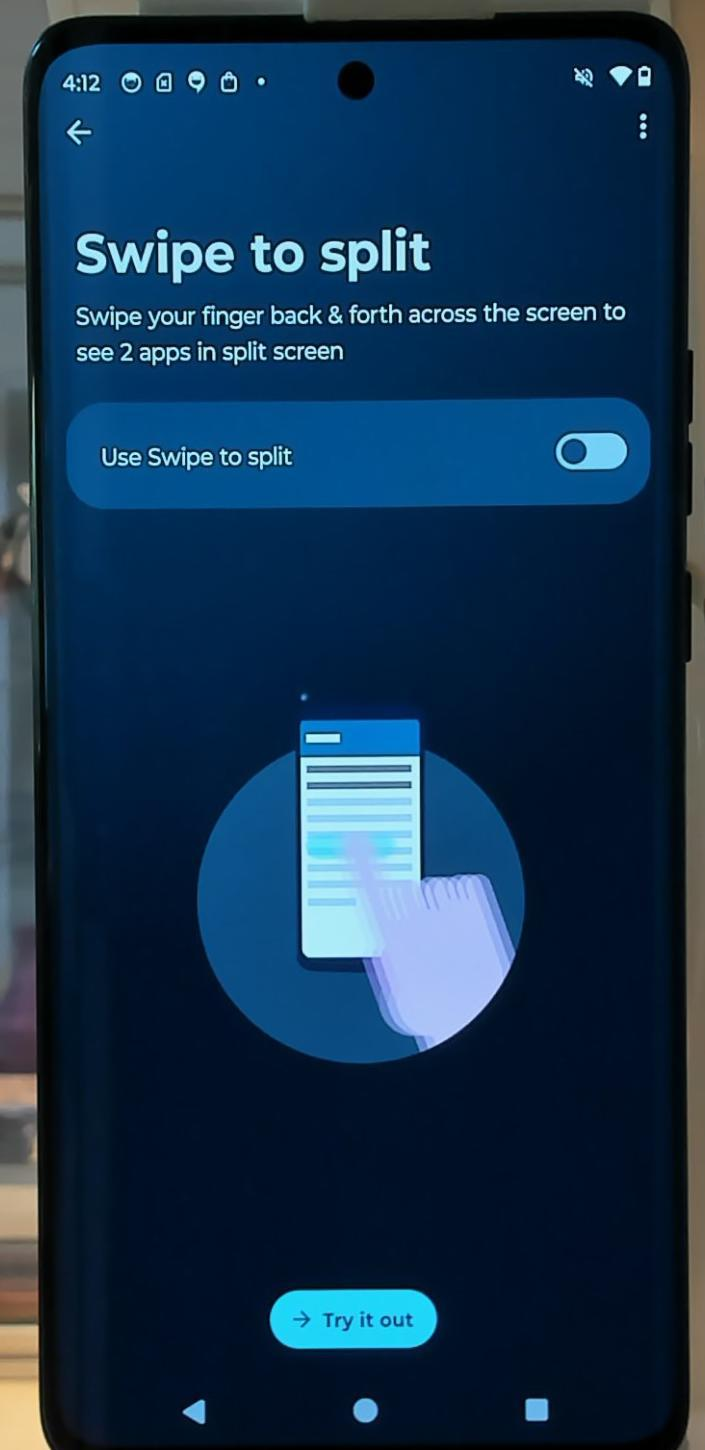Checkbox: (80, 420, 630, 481)
